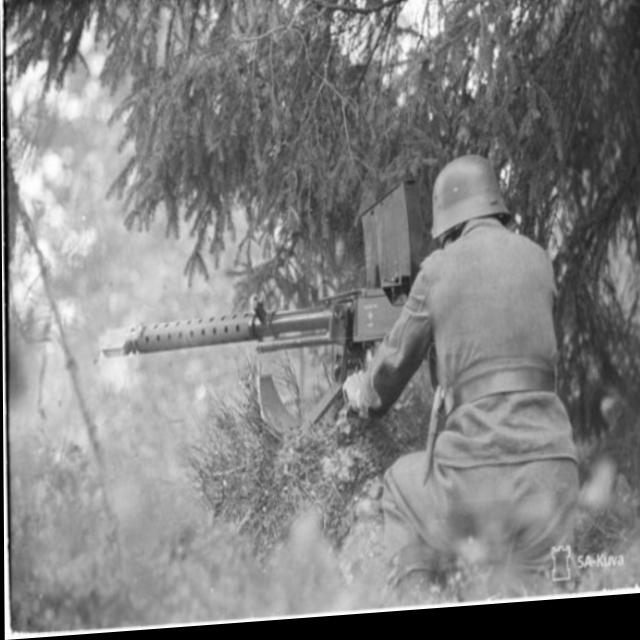other: (318, 148, 608, 536)
